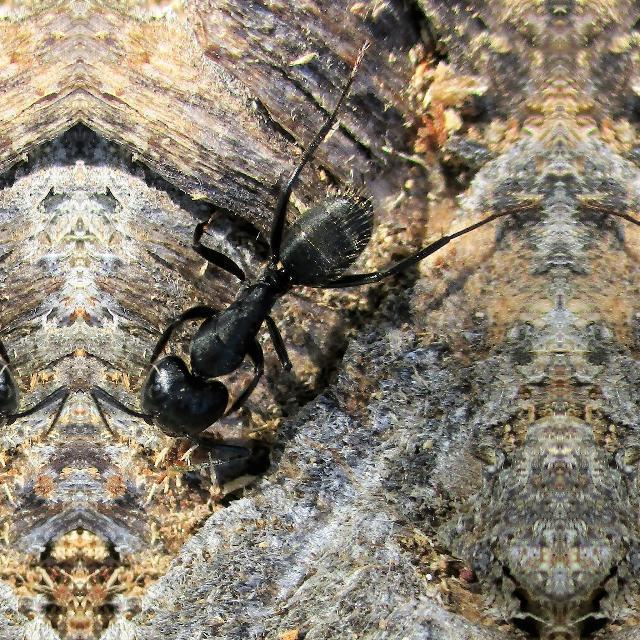Camponotus: (124, 170, 412, 442)
